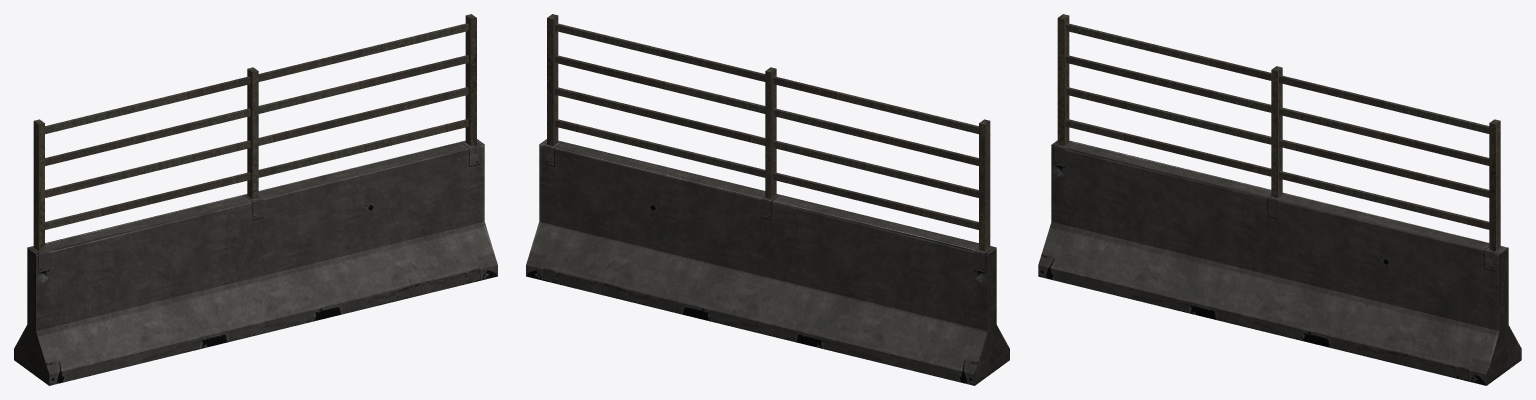
File: barricade_b_3.obj
The picture shows the model from 3 angles, left to right: view 1: azimuth 30°, elevation 25°; view 2: azimuth 150°, elevation 25°; view 3: azimuth 330°, elevation 25°; orthographic projection.
Visible parts, largest first — view 1: barricade_b_3; view 2: barricade_b_3; view 3: barricade_b_3.
Part boxes in pixels (x1,y1,x2,y2): barricade_b_3: (14, 14, 497, 385); barricade_b_3: (526, 14, 1009, 385); barricade_b_3: (1038, 14, 1521, 385).
Bounding box in the file's own units: 2.94 × 1.56 × 0.4.
